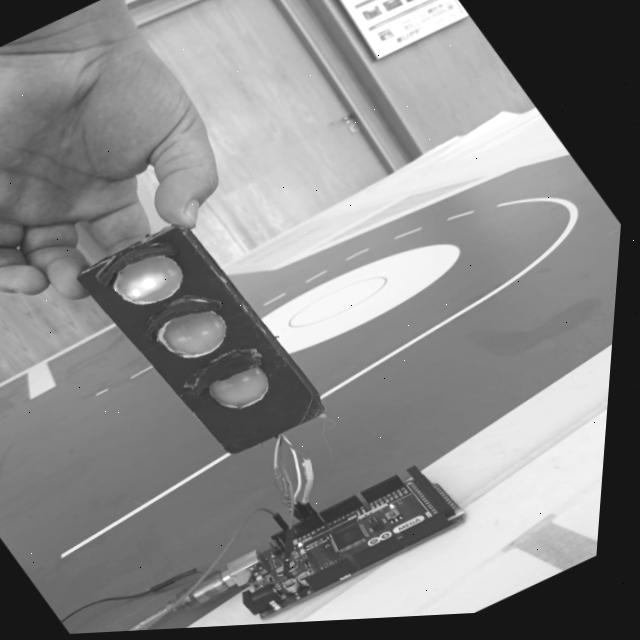red: (113, 255, 183, 305)
trafic lights: (78, 227, 323, 453)
